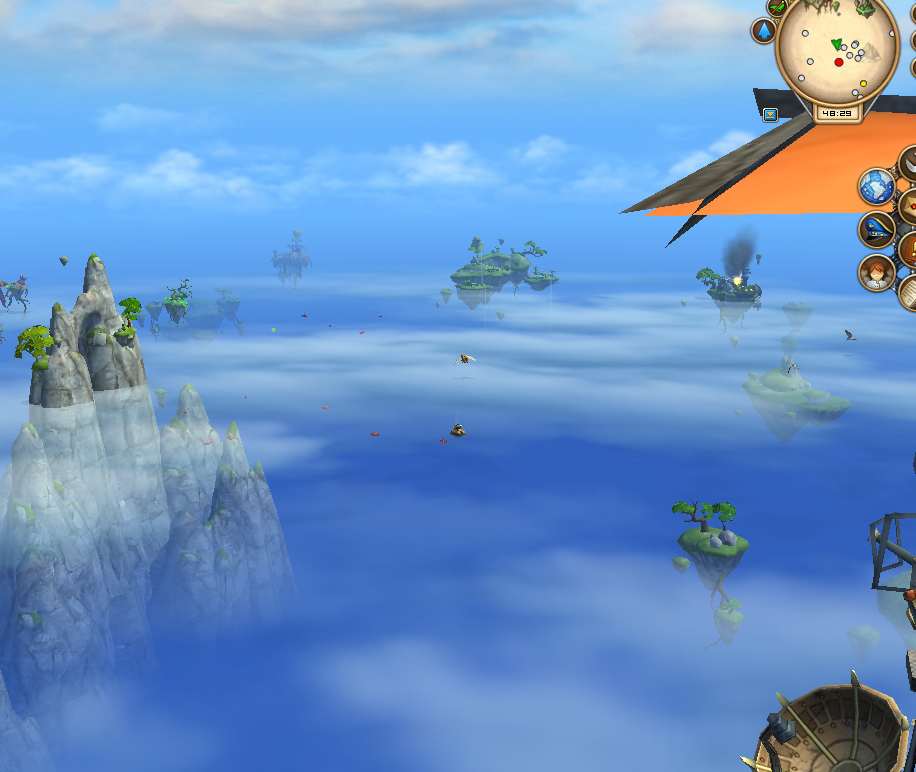dandelion-empty: (161, 275, 194, 324)
fluff: (267, 325, 277, 336)
